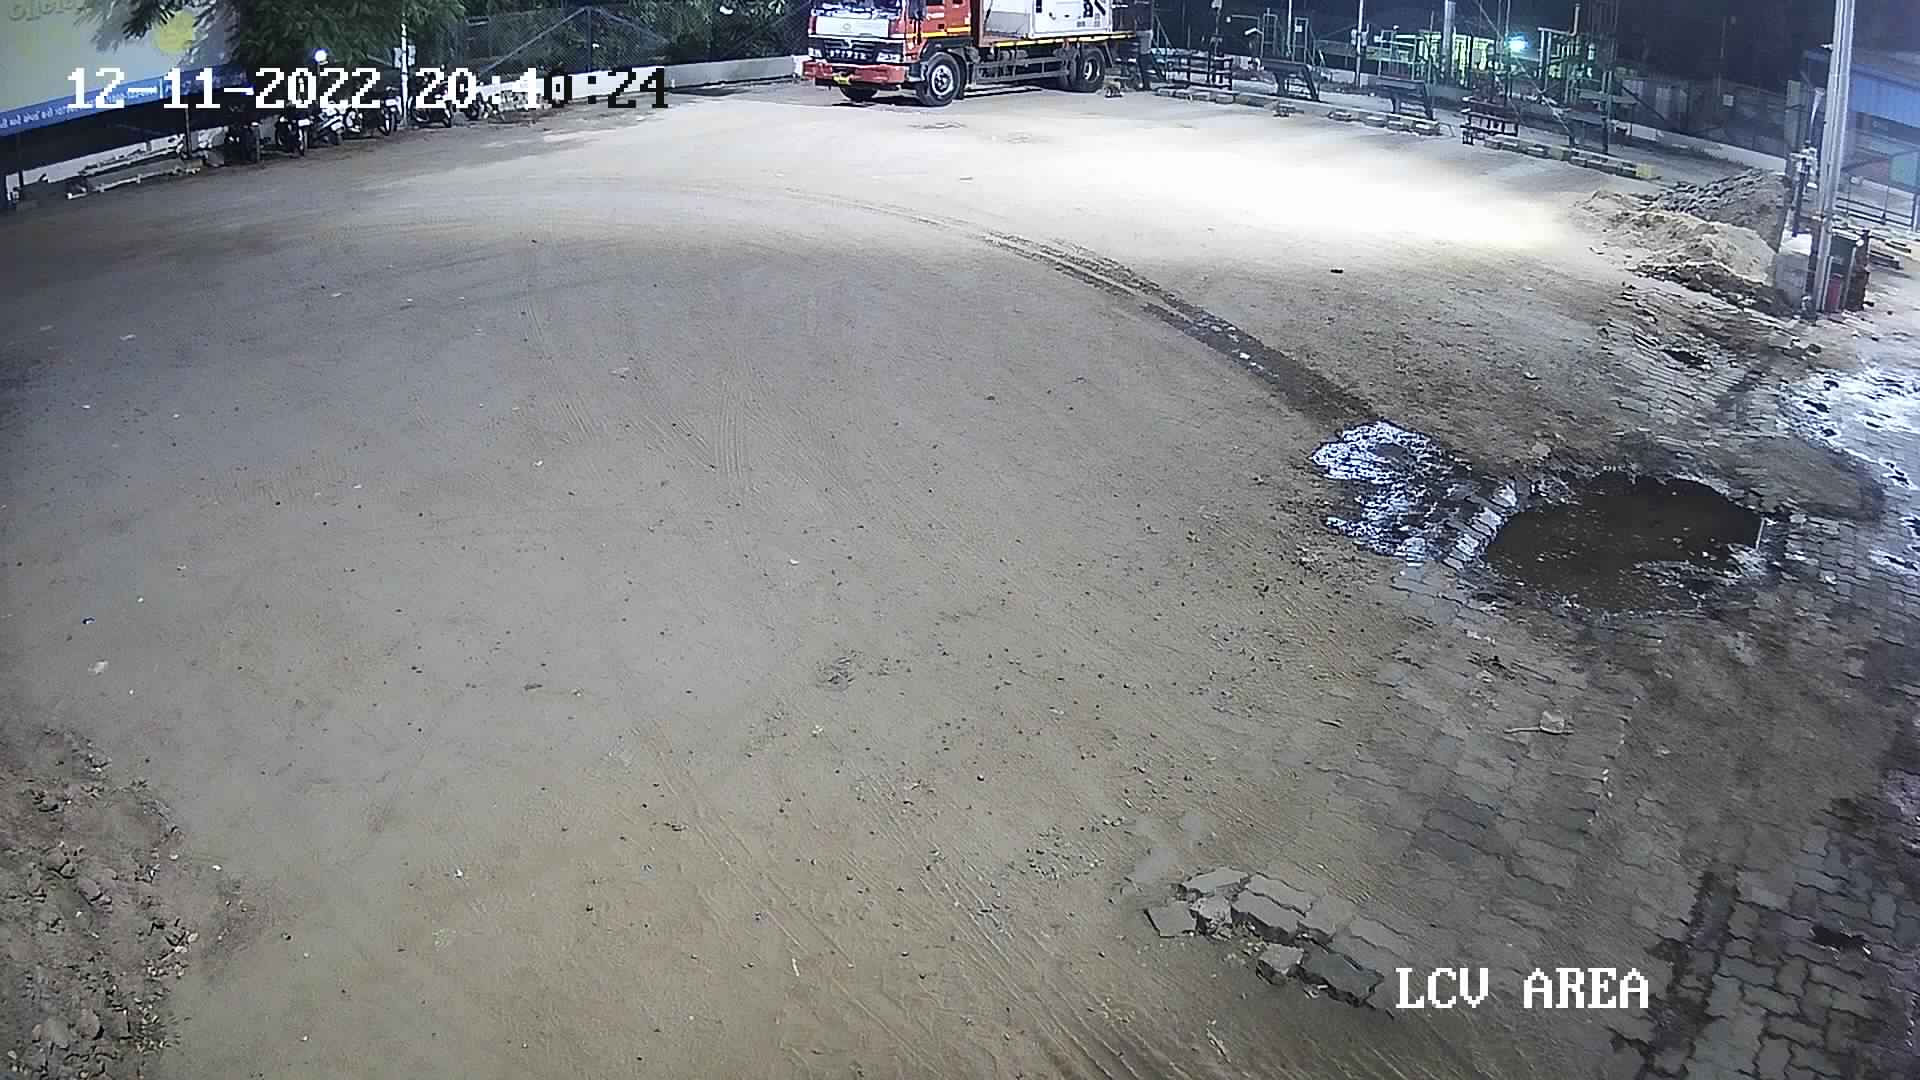HMV: (793, 0, 1159, 107)
